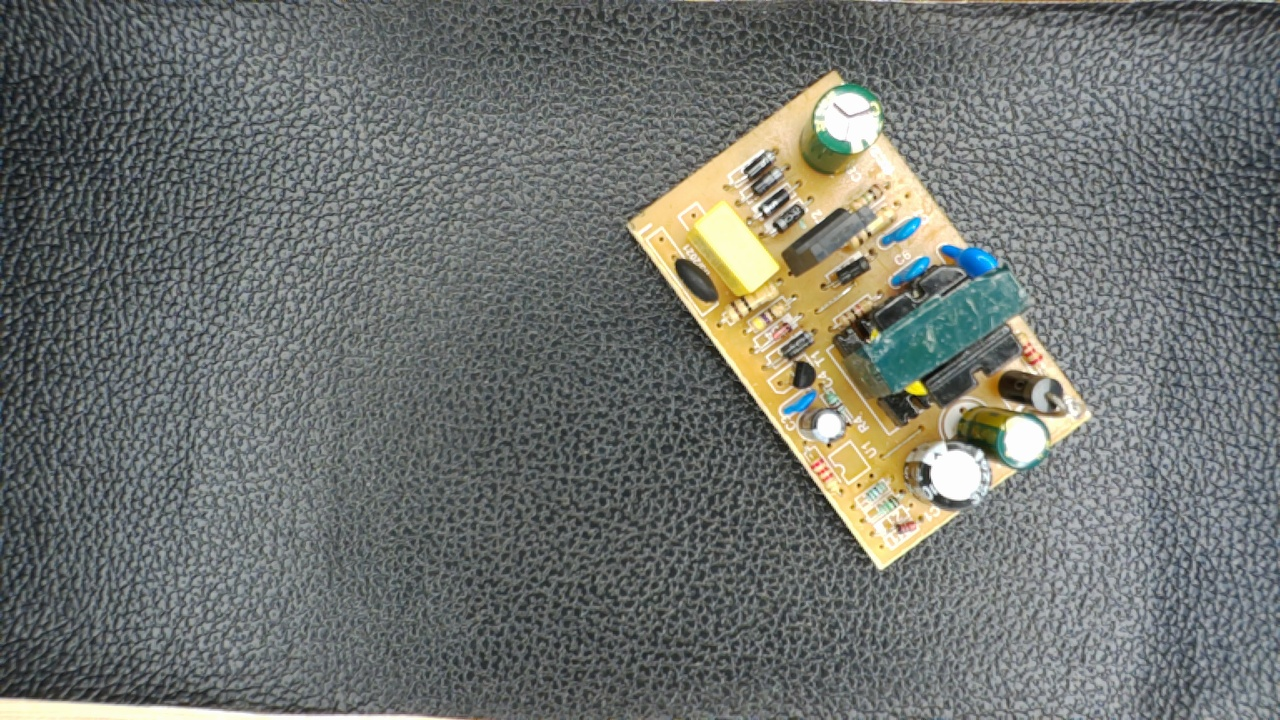fuse: (665, 249, 725, 309)
hv_capacitor: (797, 81, 888, 177)
mov: (939, 234, 1007, 281)
